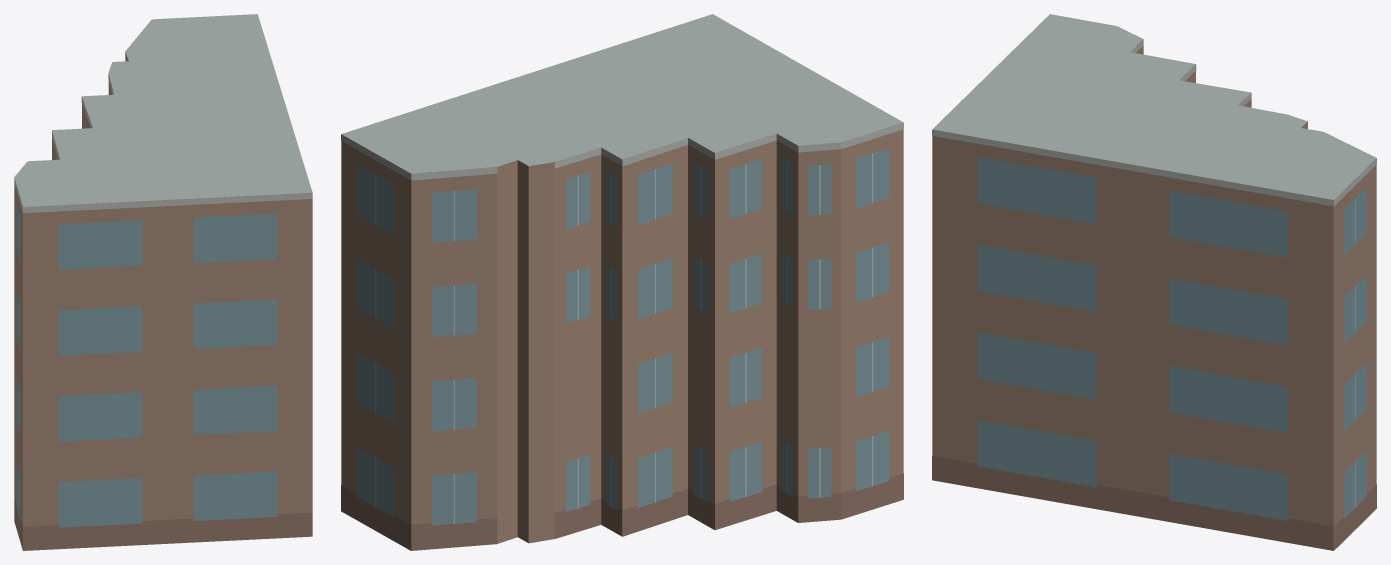
Rendered from survey-upis-32642126.glb.
The picture shows the model from 3 angles, left to right: view 1: azimuth 30°, elevation 25°; view 2: azimuth 150°, elevation 25°; view 3: azimuth 270°, elevation 25°; orthographic projection. The views are drawn at different scales.
Parts seen in each view (by area): view 1: survey-upis-32642126.tmp; view 2: survey-upis-32642126.tmp; view 3: survey-upis-32642126.tmp.
Part boxes in pixels (<box>): survey-upis-32642126.tmp: <box>14,14,312,550</box>; survey-upis-32642126.tmp: <box>341,14,903,550</box>; survey-upis-32642126.tmp: <box>932,14,1376,550</box>.
Size of the model in its own units: 15.37 by 13.5 by 15.52.
